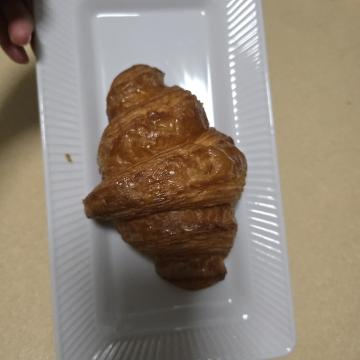croissant: (57, 105, 306, 284)
